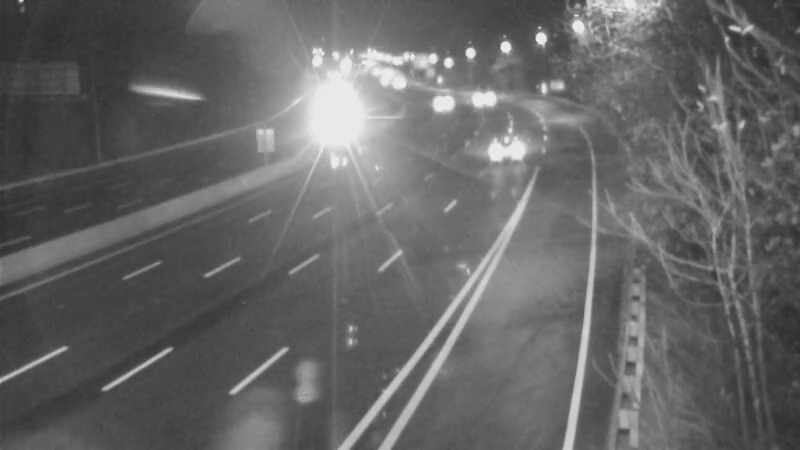vehicle: (418, 79, 468, 129), (458, 73, 508, 123), (483, 123, 533, 173)
